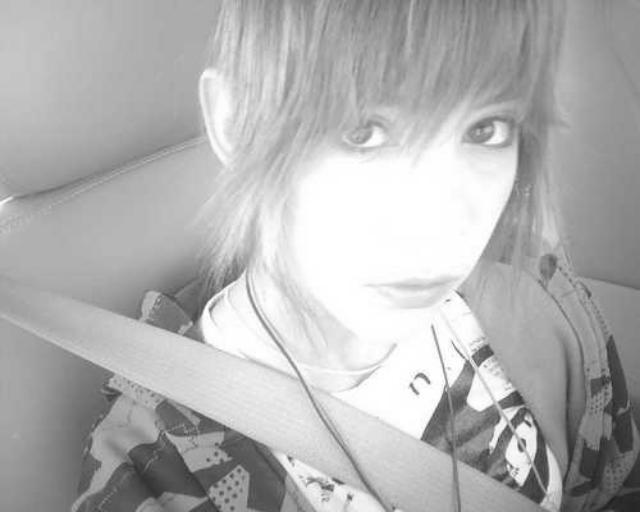SafeDriving: (445, 86, 542, 161), (324, 90, 411, 167)
Seatbelt: (1, 272, 556, 512)
